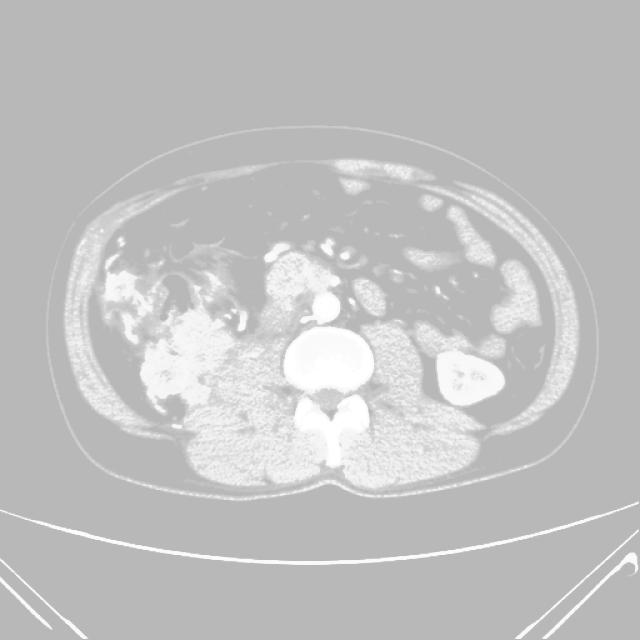TUMOR: (146, 200, 567, 488)
